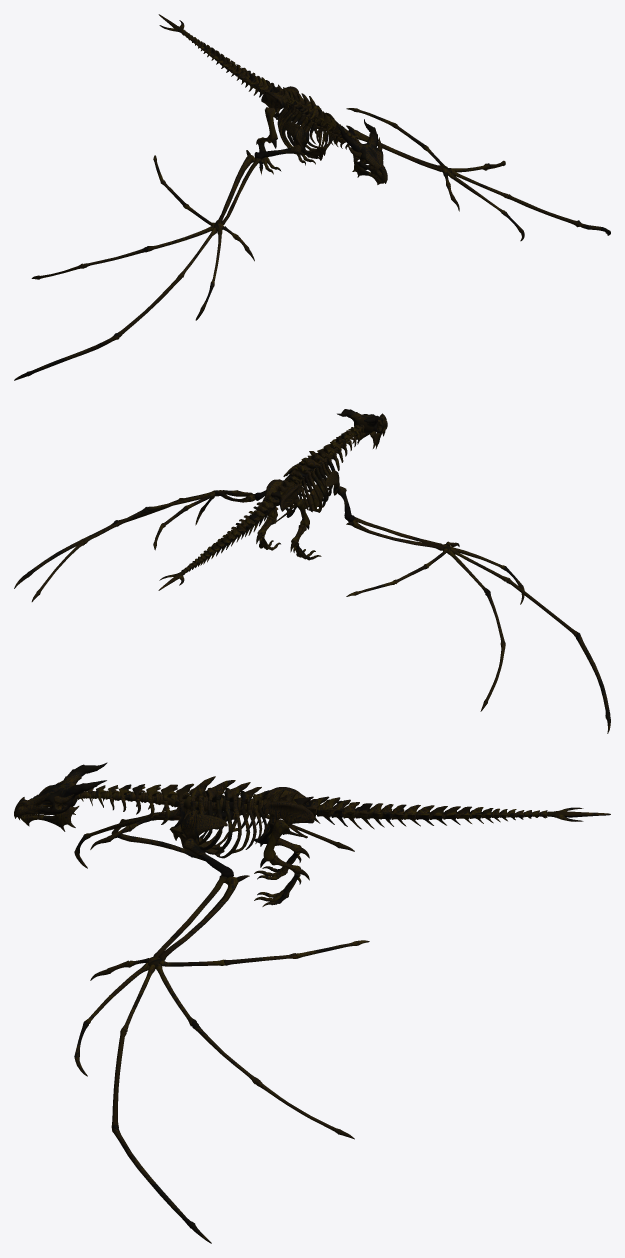
The model's file is Yolnahkriin_Dragon.glb.
3 views of the same model, one above another, from view 1: azimuth 30°, elevation 25°; view 2: azimuth 150°, elevation 25°; view 3: azimuth 270°, elevation 25° (orthographic). The views are drawn at different scales.
Parts seen in each view (by area): view 1: BoneDragon_A_Basic; view 2: BoneDragon_A_Basic; view 3: BoneDragon_A_Basic.
Boxes of the visible parts, <box> form: BoneDragon_A_Basic: <box>14,14,610,380</box>; BoneDragon_A_Basic: <box>14,409,610,733</box>; BoneDragon_A_Basic: <box>14,762,610,1243</box>.
Bounding box in the file's own units: 33.58 × 11.62 × 22.27.
Materials: 1 (1 with a texture image).
